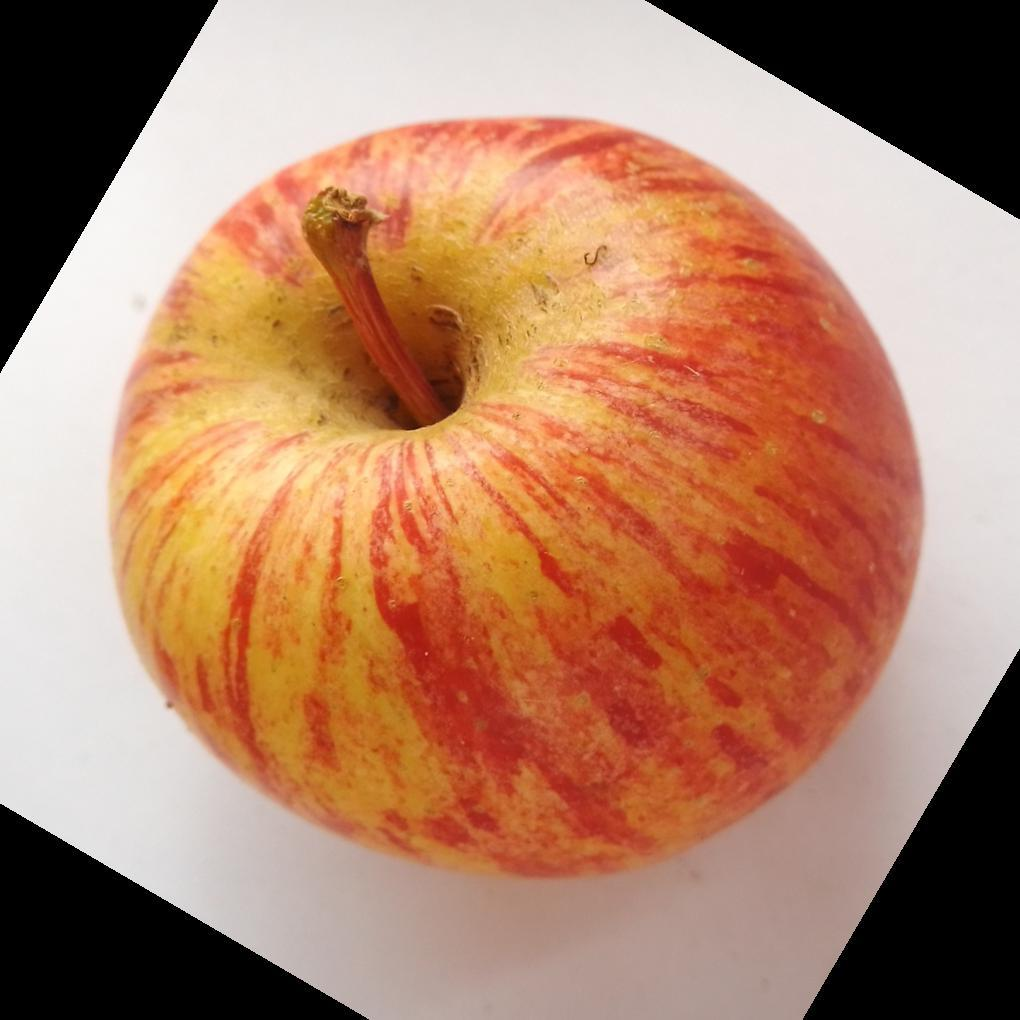FreshGuava: (103, 117, 926, 885)
